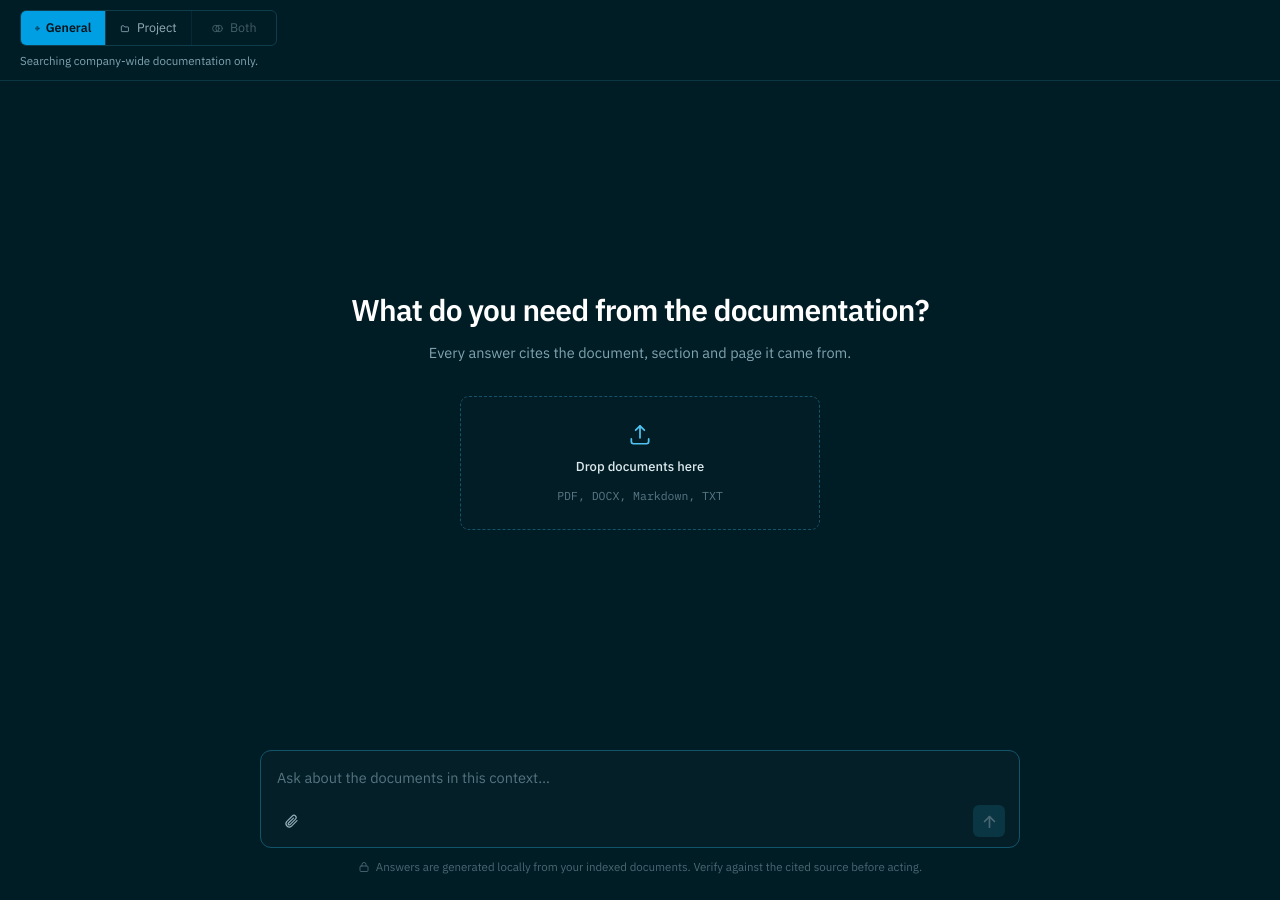
it: ChatPage › hides the project picker after switching back to General
Click the radio button labelled "Project": point(148, 28) [105,11,191,45]
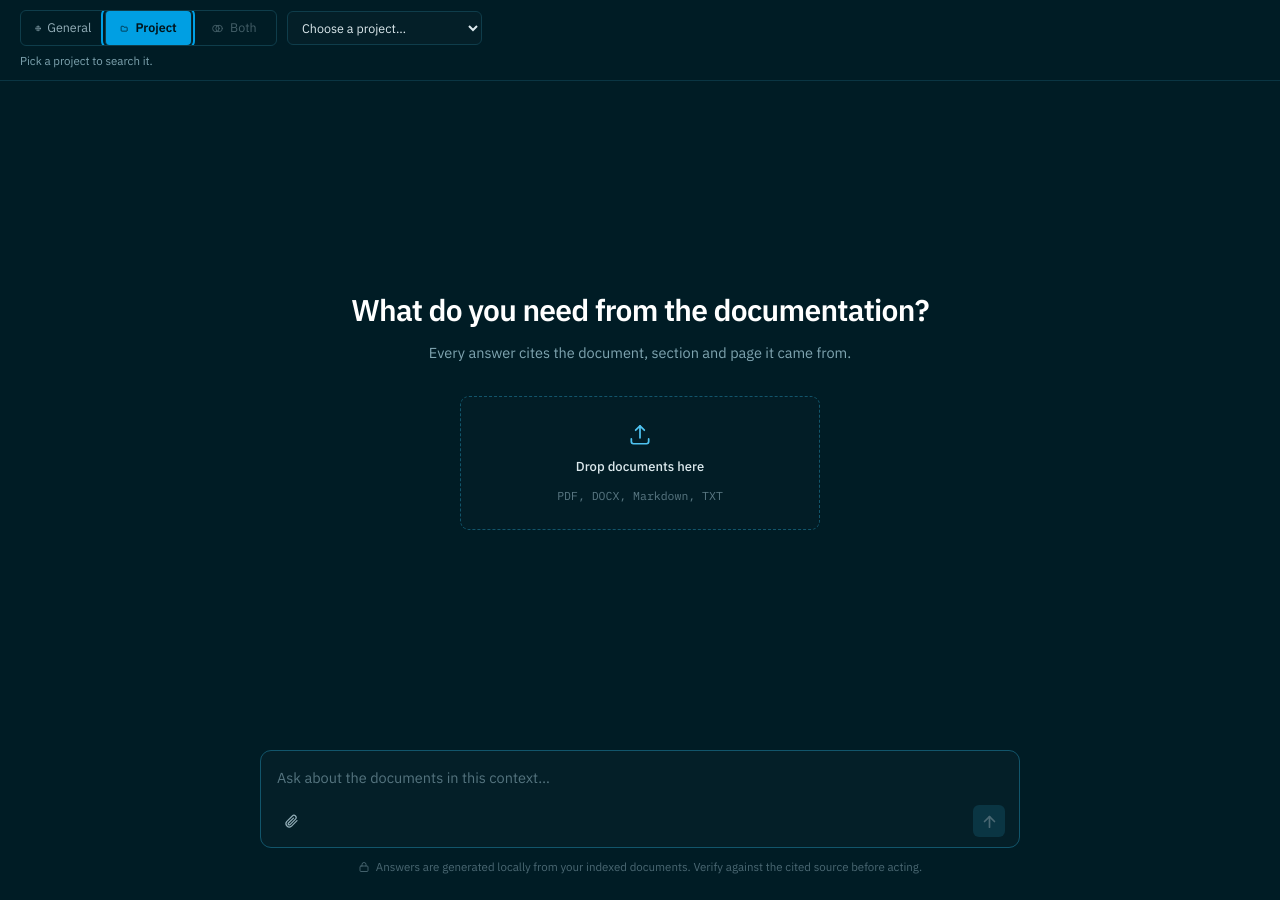
Select "CPH T3 — LS-4000E" in the dropdown named "Project to search": point(385, 28) [287,11,482,45]
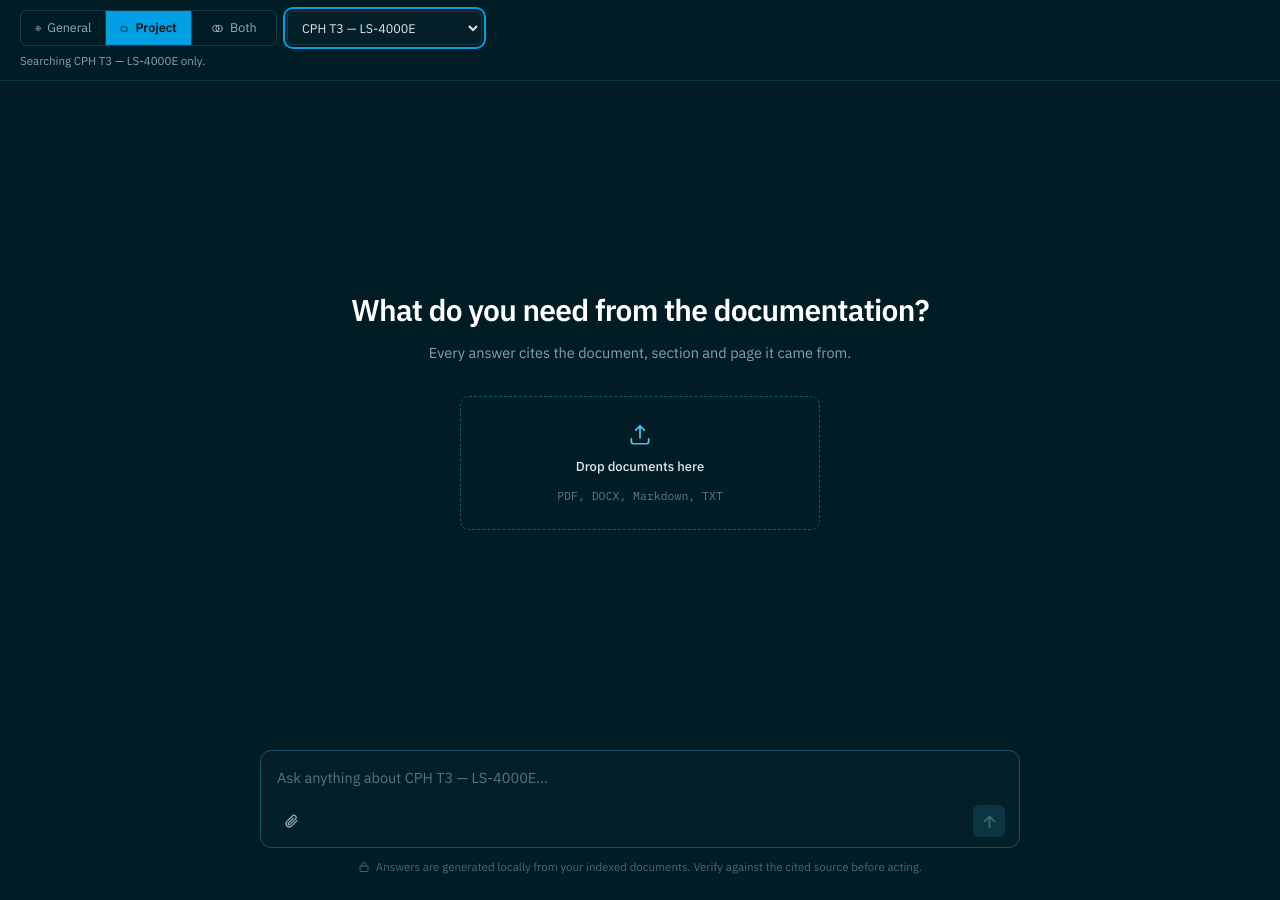
Click the radio button labelled "General": point(63, 28) [21,11,105,45]
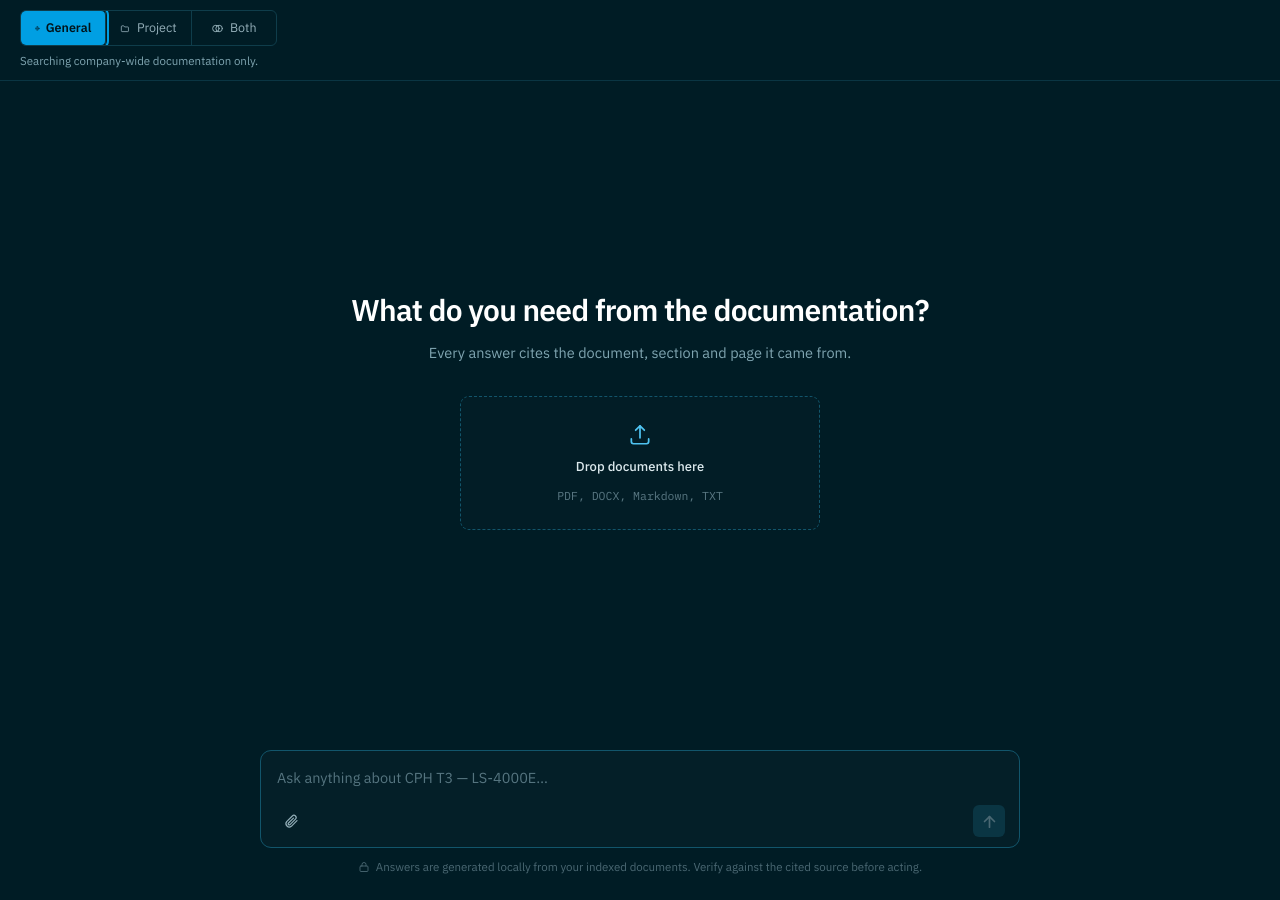
Expected: the text labelled "project to search" is not shown
// Switching back to Project remembers the earlier pick rather than forcing it again.
Click the radio button labelled "Project": point(148, 28) [105,11,191,45]
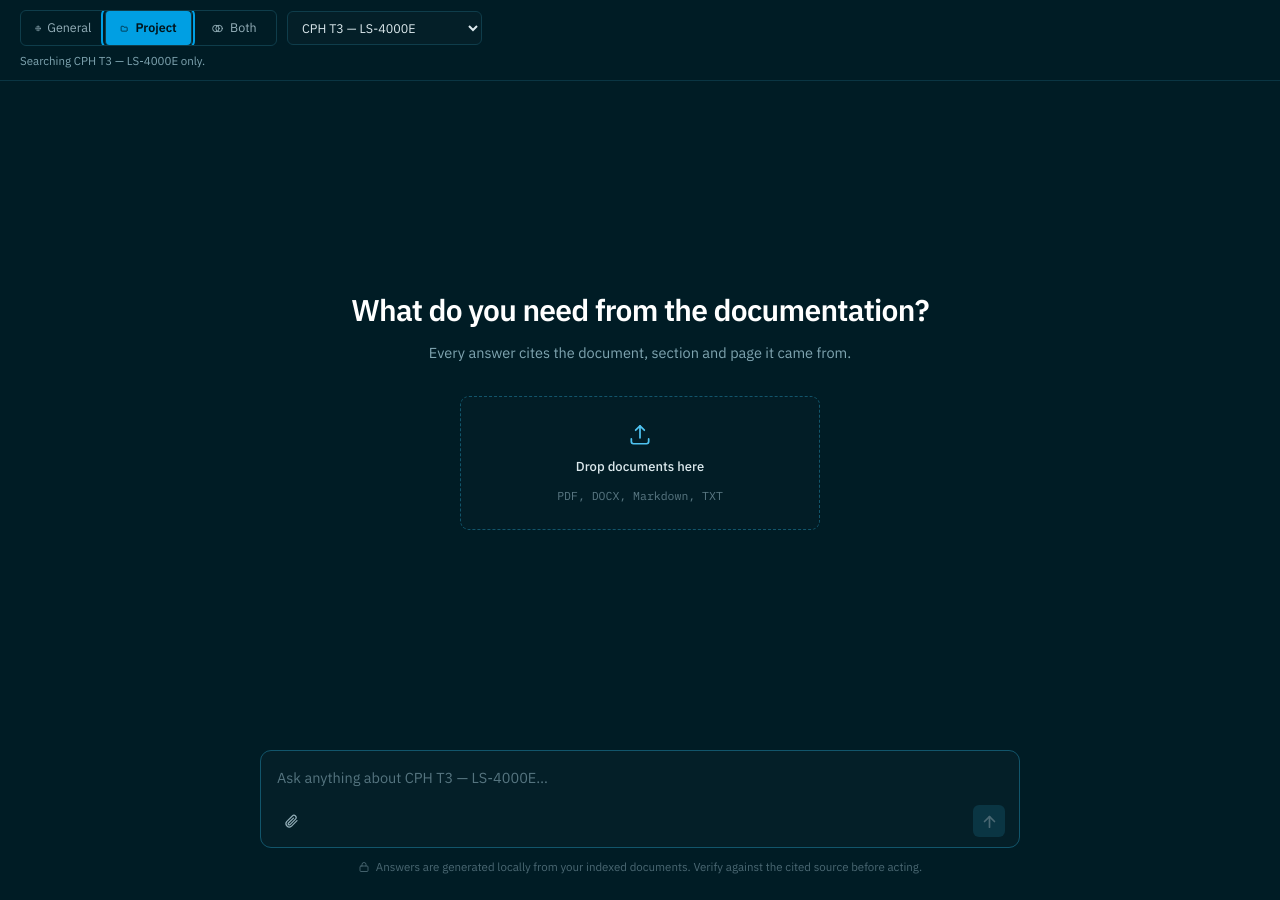
Result: the dropdown named "Project to search" shows "CPH T3 — LS-4000E" at [287,11,482,45]
